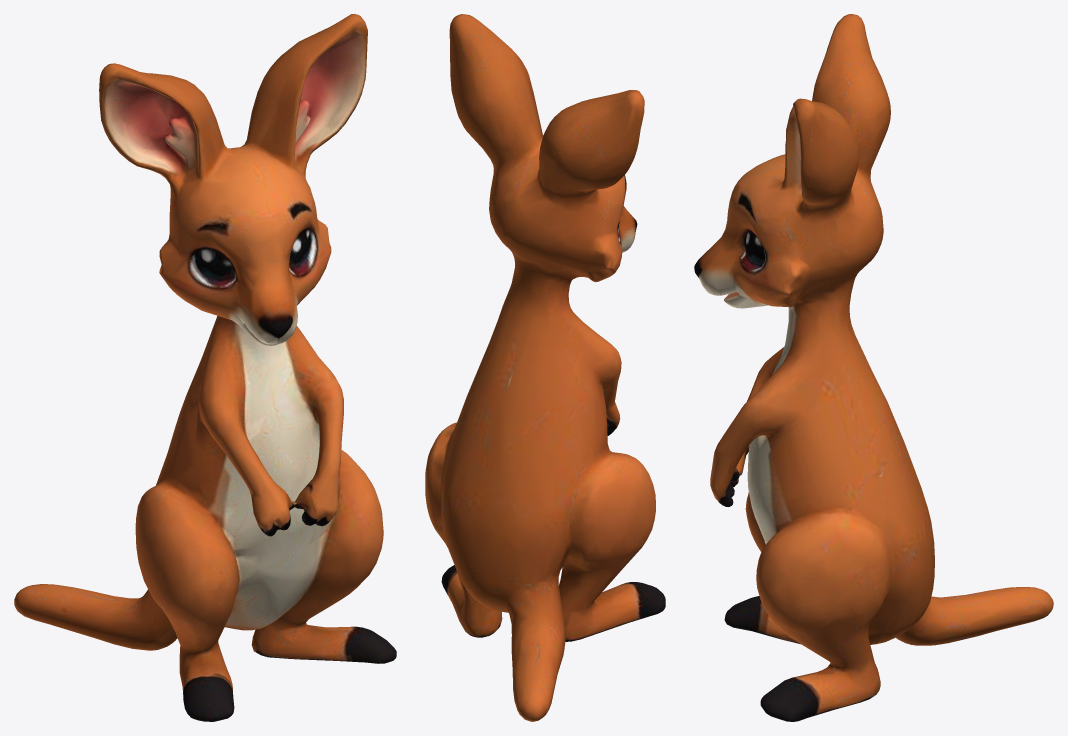
Rendered from kangaroo.glb.
The picture shows the model from 3 angles, left to right: view 1: azimuth 30°, elevation 25°; view 2: azimuth 150°, elevation 25°; view 3: azimuth 270°, elevation 25°; orthographic projection. The views are drawn at different scales.
Bounding box in the file's own units: 0.7853 × 1.9 × 1.
Materials: 1 (1 with a texture image).
